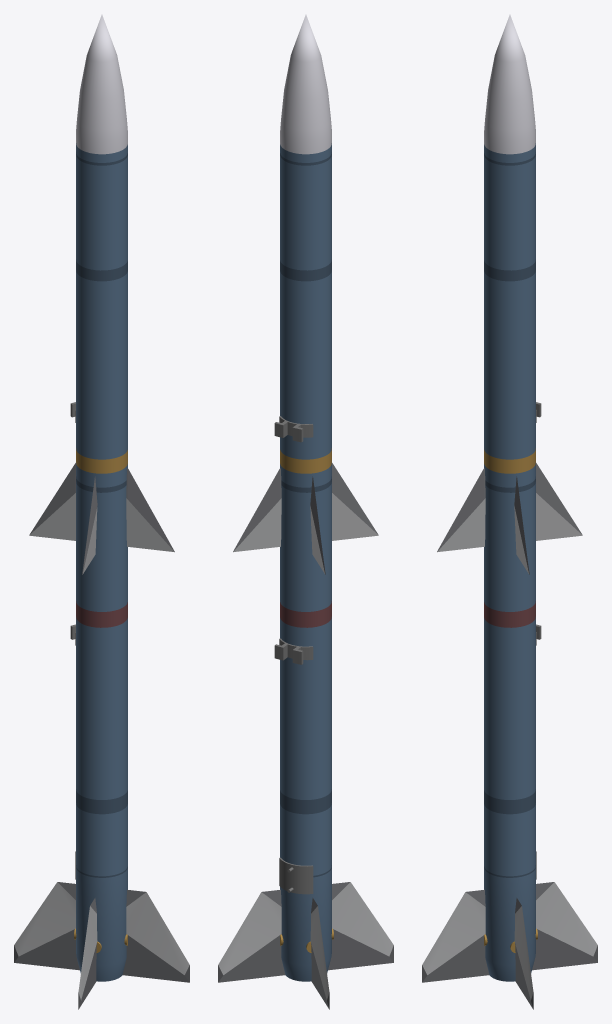
Rendered from pack1-missile-05.glb.
3 renders of one model, left to right at view 1: azimuth 30°, elevation 25°; view 2: azimuth 150°, elevation 25°; view 3: azimuth 330°, elevation 25°, orthographic.
Visible parts, largest first — view 1: Missile Pack 1 #5; view 2: Missile Pack 1 #5; view 3: Missile Pack 1 #5.
Boxes of the visible parts, <box> form: Missile Pack 1 #5: <box>14,14,189,1009</box>; Missile Pack 1 #5: <box>218,14,393,1009</box>; Missile Pack 1 #5: <box>422,14,597,1009</box>.
Bounding box in the file's own units: 0.2919 × 2.4 × 0.2919.
